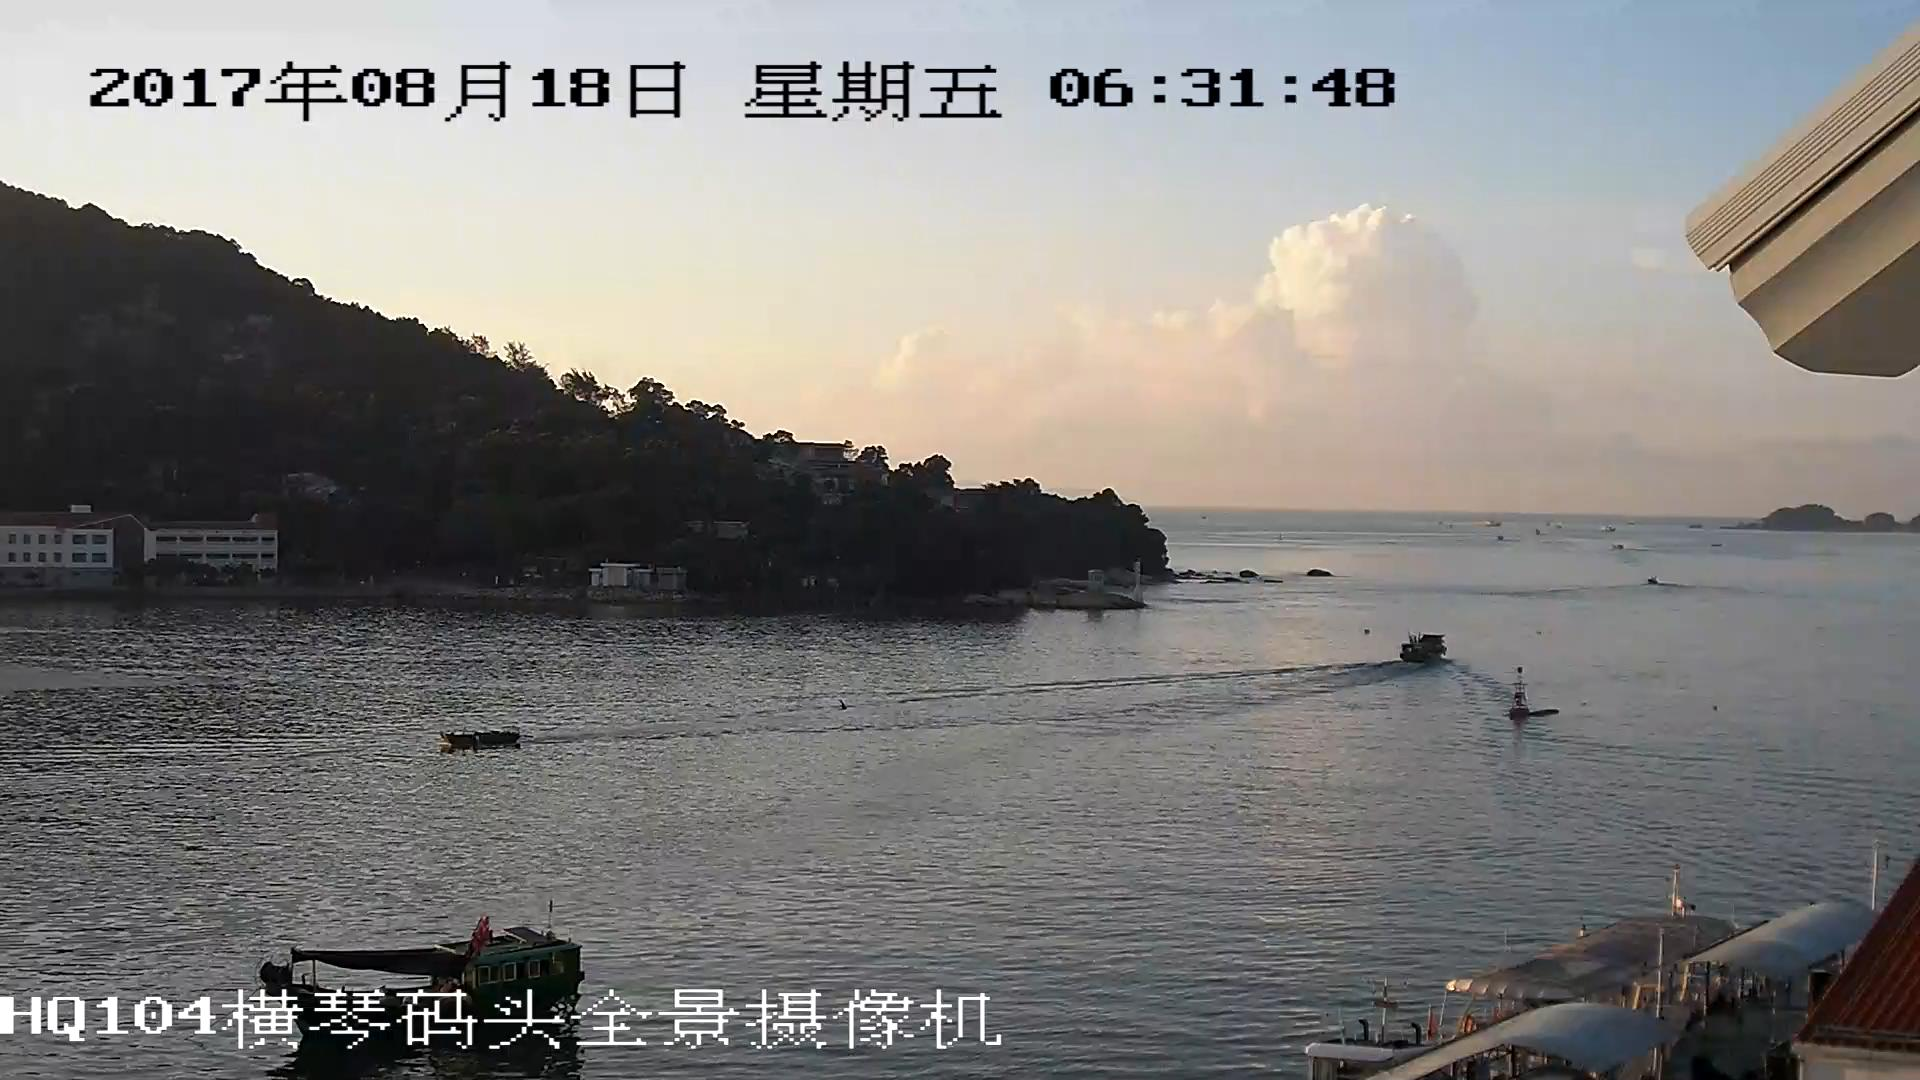fishing boat: (257, 924, 591, 985), (445, 729, 518, 751)
